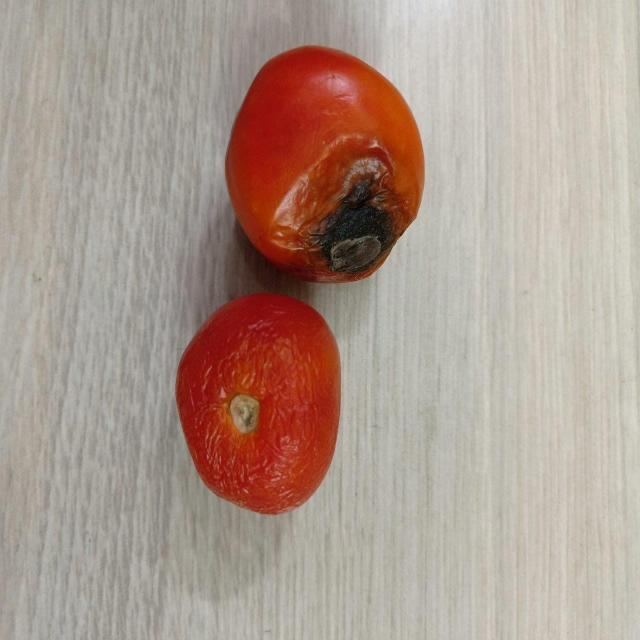Rotten: (224, 43, 425, 283)
overripe: (175, 291, 340, 511)
